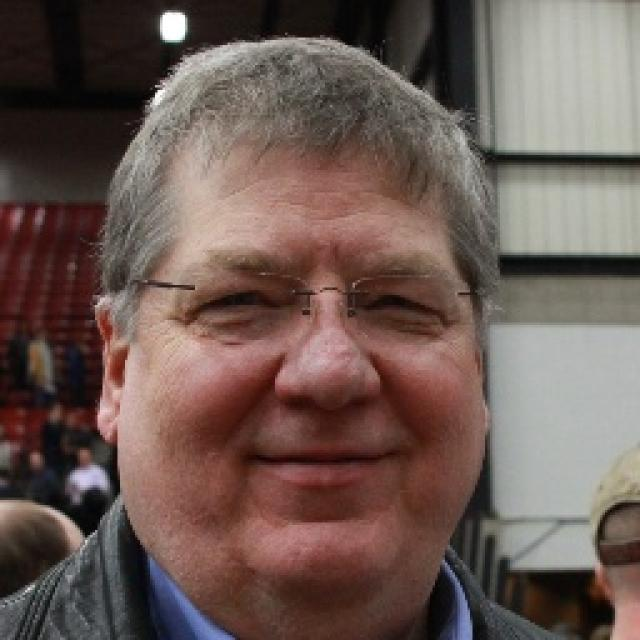earlobe: (96, 388, 120, 446)
eye: (365, 290, 442, 325), (200, 288, 276, 318)
nose: (281, 401, 380, 437)
wholeear: (94, 296, 120, 447)
